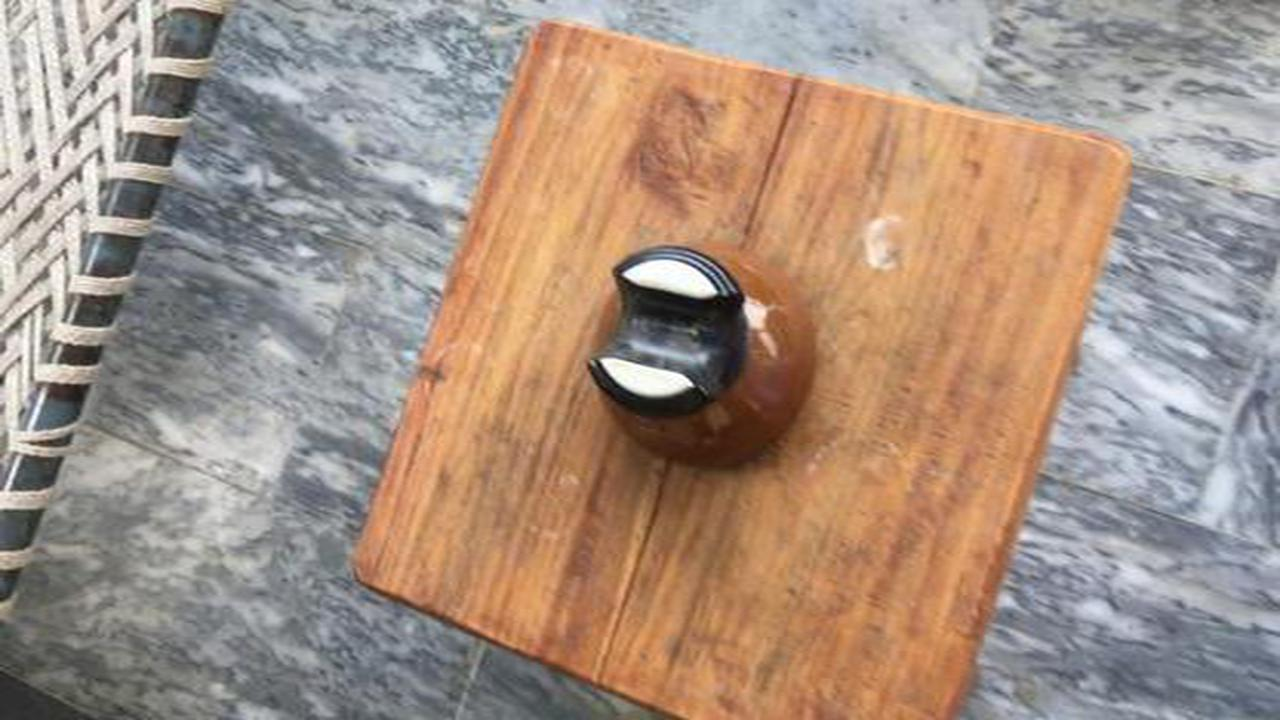insulator_pin: (576, 230, 834, 483)
